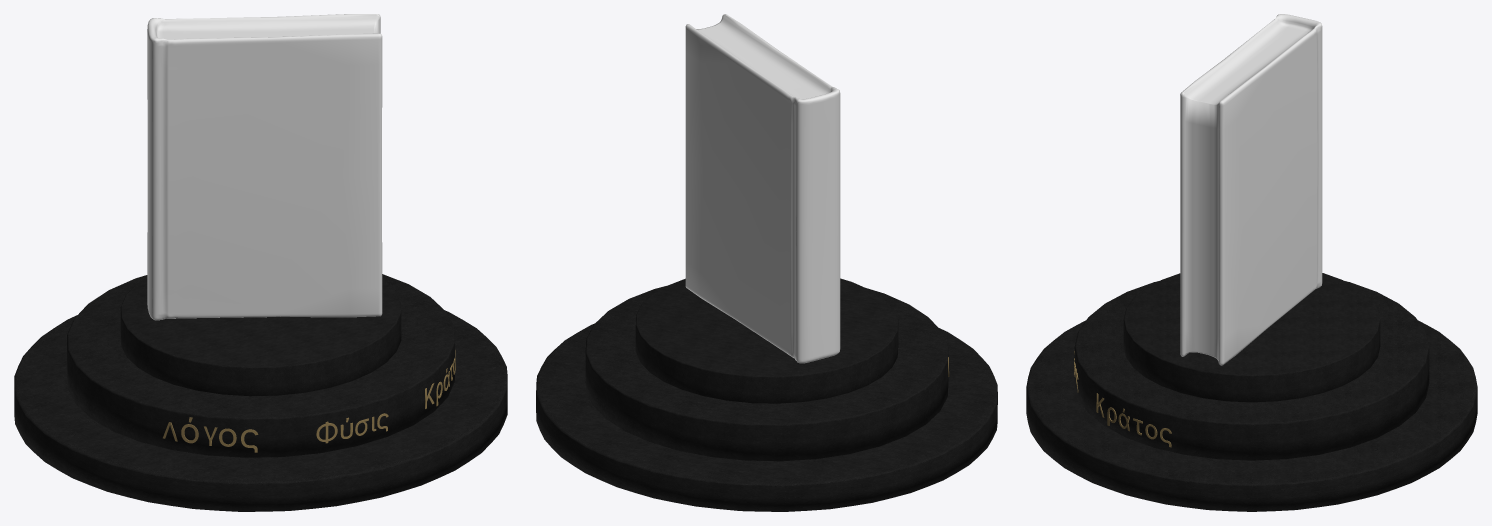
File: landing-page-scene.glb
The picture shows the model from 3 angles, left to right: view 1: azimuth 30°, elevation 25°; view 2: azimuth 150°, elevation 25°; view 3: azimuth 270°, elevation 25°; orthographic projection. The views are drawn at different scales.
Visible parts, largest first — view 1: book, Cylinder.001, Cylinder.002, Cylinder.003; view 2: book, Cylinder.001, Cylinder.002, Cylinder.003; view 3: book, Cylinder.001, Cylinder.002, Cylinder.003.
Part boxes in pixels (x1=…): book: x1=147, y1=14, x2=382, y2=320; Cylinder.001: x1=14, y1=310, x2=507, y2=511; Cylinder.002: x1=67, y1=274, x2=454, y2=457; Cylinder.003: x1=120, y1=277, x2=401, y2=396; book: x1=685, y1=14, x2=840, y2=363; Cylinder.001: x1=536, y1=323, x2=997, y2=511; Cylinder.002: x1=585, y1=286, x2=948, y2=461; Cylinder.003: x1=635, y1=278, x2=898, y2=403; book: x1=1180, y1=14, x2=1322, y2=365; Cylinder.001: x1=1026, y1=320, x2=1477, y2=511; Cylinder.002: x1=1074, y1=281, x2=1429, y2=460; Cylinder.003: x1=1123, y1=273, x2=1380, y2=402.
Size of what is drawn, in the model's own units: 0.7516 by 0.6355 by 0.7257.
Materials: 2 (1 with a texture image).
